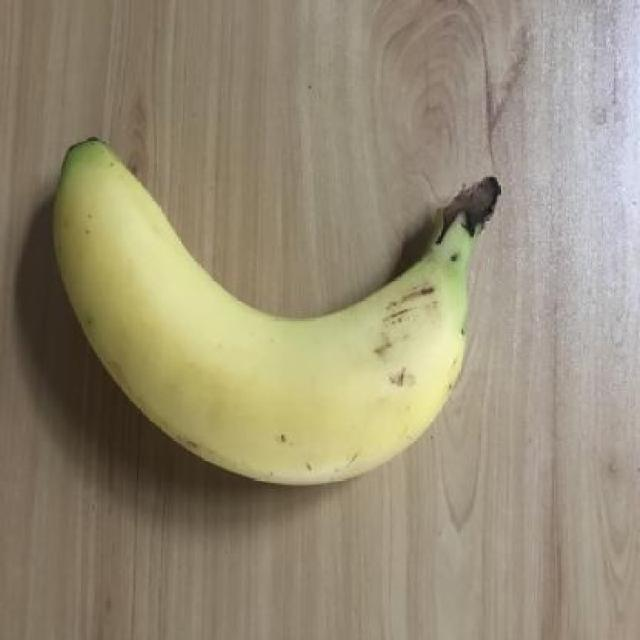Banana: (44, 126, 504, 492)
